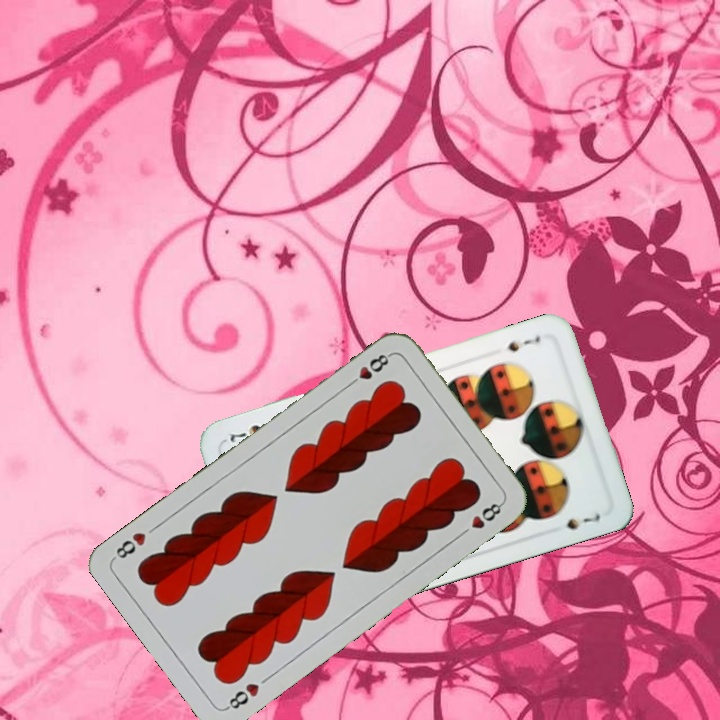H8: (343, 349, 394, 390), (222, 679, 262, 713)
S7: (503, 332, 543, 355)
